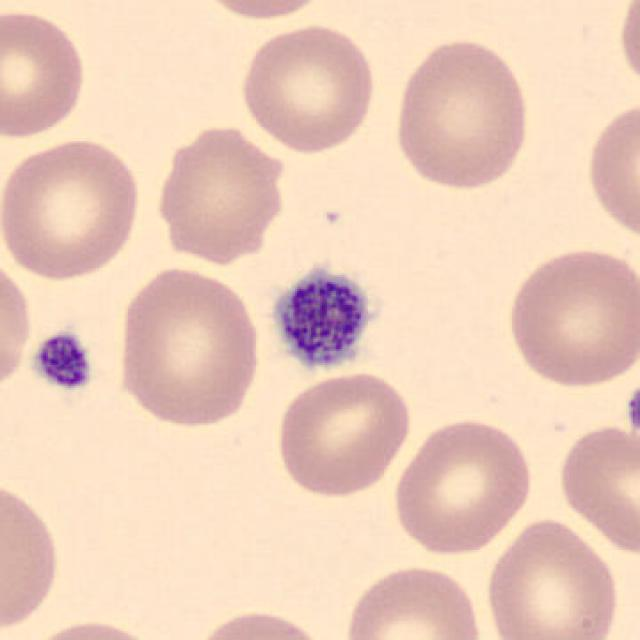Platelets: (265, 261, 380, 375), (27, 326, 98, 395), (622, 379, 640, 441)
RBC: (112, 263, 265, 432), (389, 34, 535, 192), (0, 134, 146, 284), (389, 412, 537, 559), (151, 120, 290, 266), (503, 242, 638, 392), (234, 20, 378, 156), (272, 368, 414, 501), (480, 515, 622, 640), (0, 5, 91, 141), (339, 560, 488, 640), (553, 421, 638, 559), (0, 472, 66, 636), (581, 93, 640, 247), (0, 248, 36, 398), (186, 606, 334, 640), (16, 613, 176, 640), (188, 0, 339, 23), (613, 0, 639, 100)
